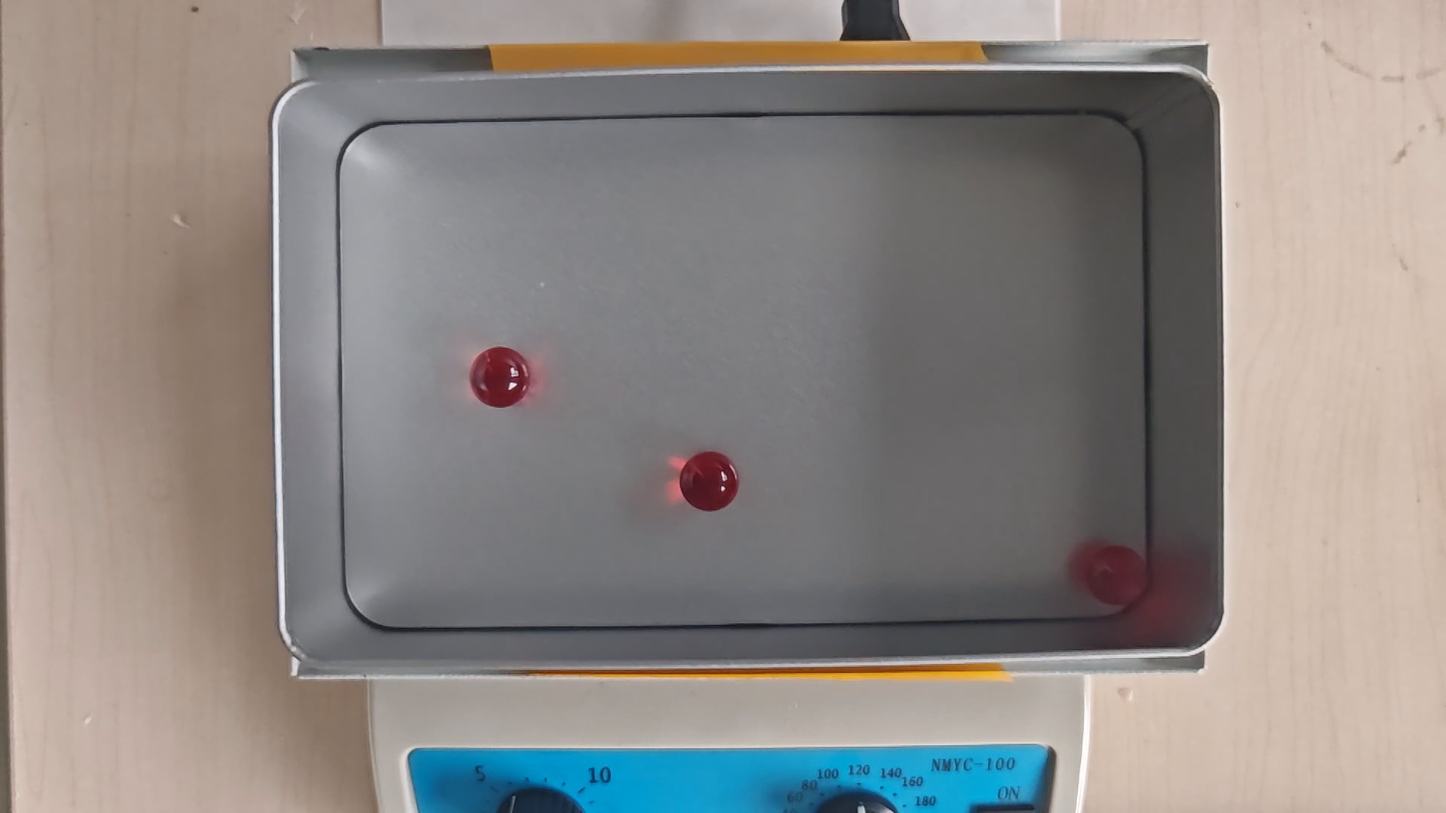ball: (1084, 544, 1150, 609), (469, 347, 529, 410), (682, 451, 739, 511)
container: (340, 114, 1147, 627)
